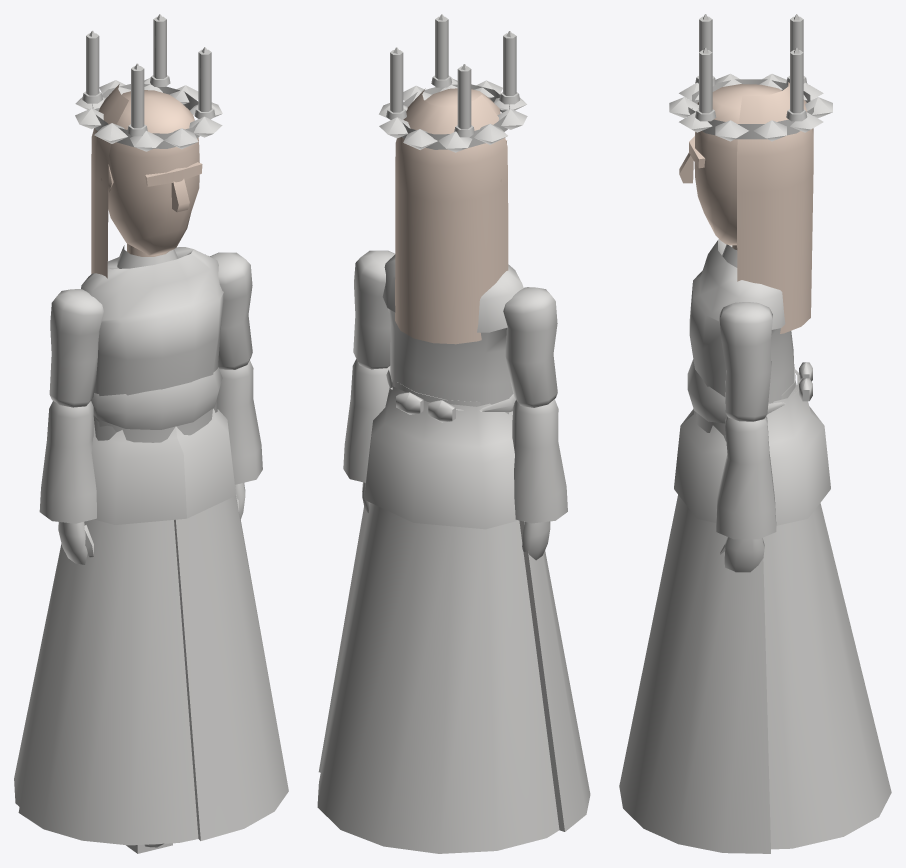
The model's file is elsa_lucia.glb.
3 views of the same model, side by side, from view 1: azimuth 30°, elevation 25°; view 2: azimuth 150°, elevation 25°; view 3: azimuth 270°, elevation 25° (orthographic).
Visible parts, largest first — view 1: coat_r, coat_l, torso, head, skirt, crown, forearm_r, arm_r, forearm_l, arm_l, coat_back; view 2: coat_back, head, skirt, torso, coat_r, crown, forearm_r, arm_r, arm_l, forearm_l, coat_l; view 3: coat_l, coat_back, head, skirt, torso, forearm_l, crown, arm_l.
Boxes of the visible parts, <box> form: coat_r: <box>18,519,198,845</box>; coat_l: <box>174,496,288,840</box>; torso: <box>81,245,223,442</box>; head: <box>91,84,202,278</box>; skirt: <box>91,409,235,524</box>; crown: <box>75,14,222,151</box>; forearm_r: <box>39,401,96,564</box>; arm_r: <box>49,289,104,407</box>; forearm_l: <box>217,360,262,519</box>; arm_l: <box>210,252,252,369</box>; coat_back: <box>14,544,61,806</box>; coat_back: <box>317,503,559,853</box>; head: <box>395,88,508,344</box>; skirt: <box>364,380,518,529</box>; torso: <box>382,254,523,422</box>; coat_r: <box>519,520,590,831</box>; crown: <box>379,14,527,152</box>; forearm_r: <box>512,399,567,560</box>; arm_r: <box>503,287,557,407</box>; arm_l: <box>353,250,394,369</box>; forearm_l: <box>343,359,390,512</box>; coat_l: <box>318,506,368,772</box>; coat_l: <box>619,495,770,853</box>; coat_back: <box>763,503,891,849</box>; head: <box>679,82,813,333</box>; skirt: <box>674,378,830,525</box>; torso: <box>687,239,812,435</box>; forearm_l: <box>716,416,776,572</box>; crown: <box>669,14,832,141</box>; arm_l: <box>719,302,772,421</box>.
Size of the model in its own units: 0.4595 by 1.39 by 0.4373.
